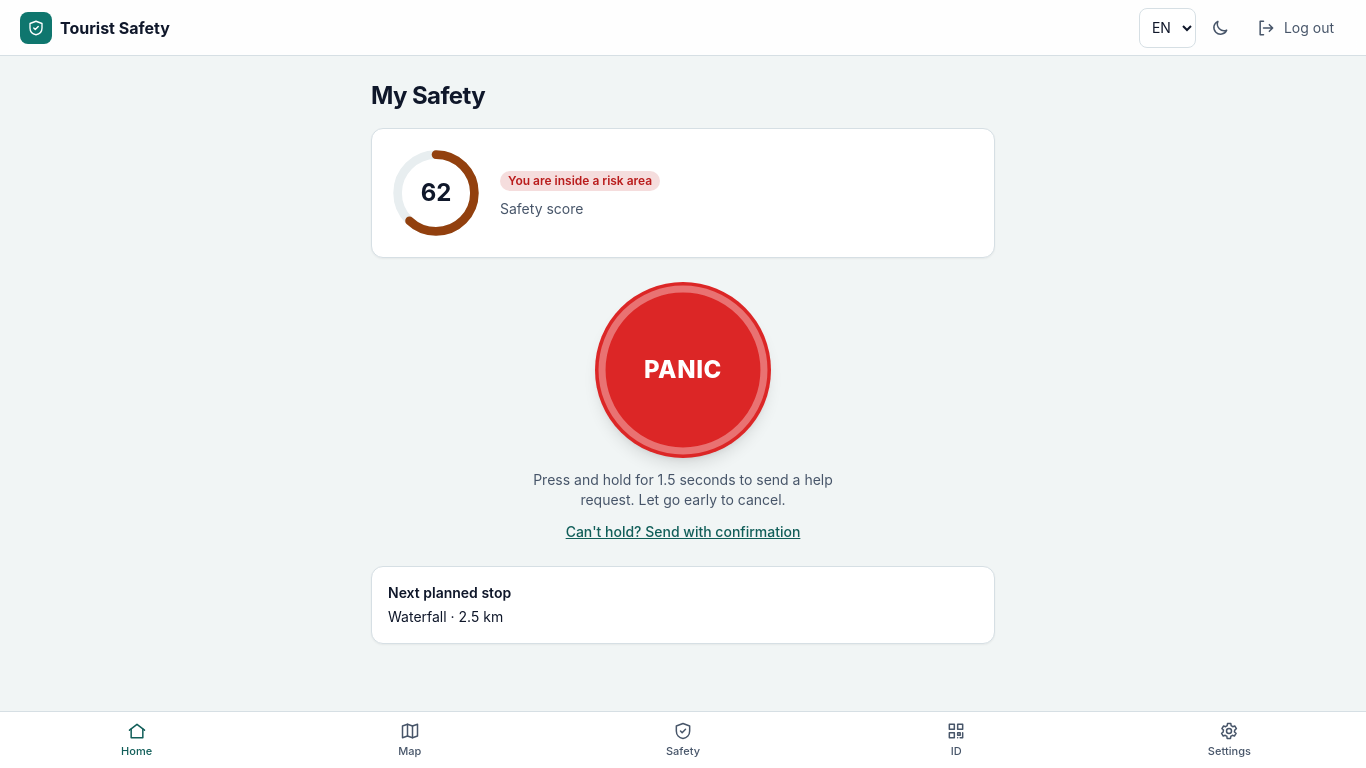
Test: confirm-path panic sends the device timestamp and shows delivery status
This screenshot has width=1366, height=768.
Expected: the heading "My Safety" is shown, [371,80,485,112]
Expected: the text "You are inside a risk area" is shown, [500,171,660,191]
Step 1. Click the button "Can't hold? Send with confirmation" → [683, 532], box [566,522,800,542]
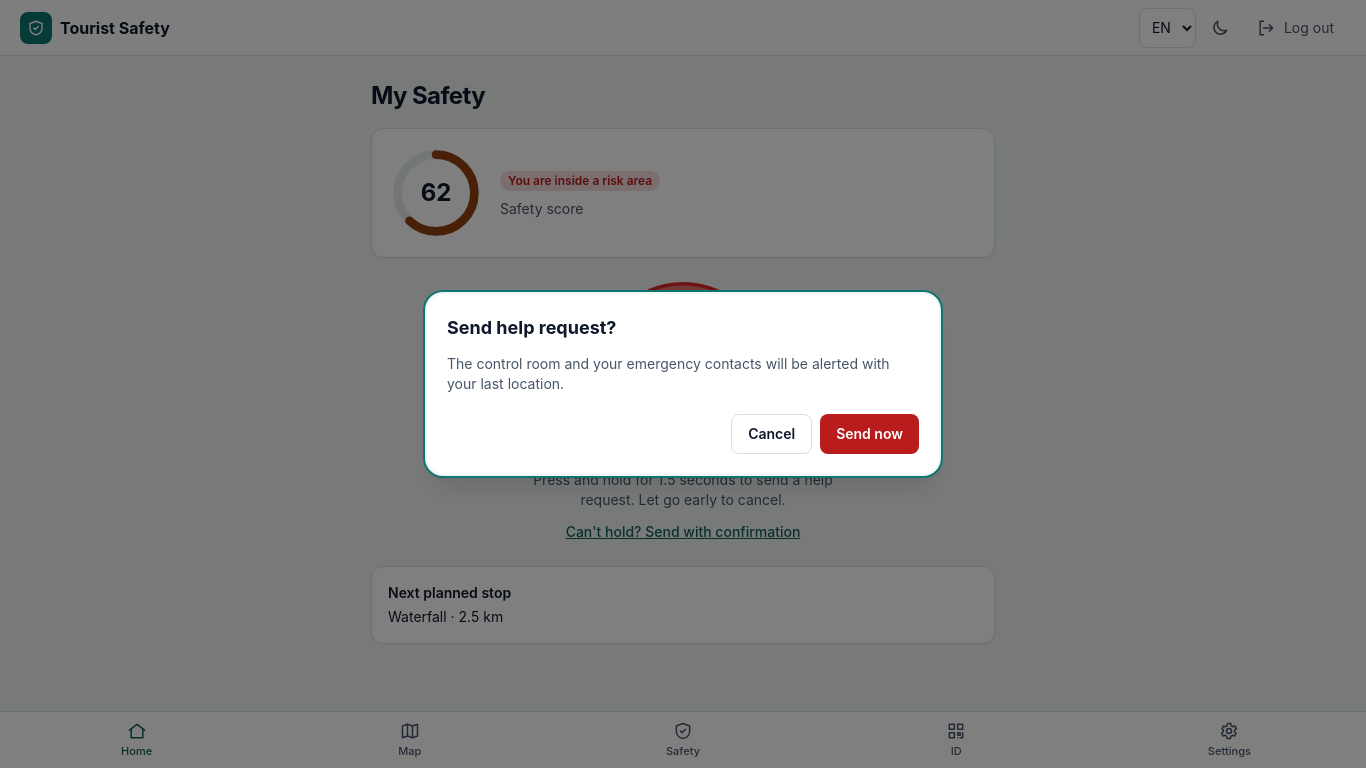
Step 2. Click the button "Send now" → [870, 434], box [820,414,919,454]
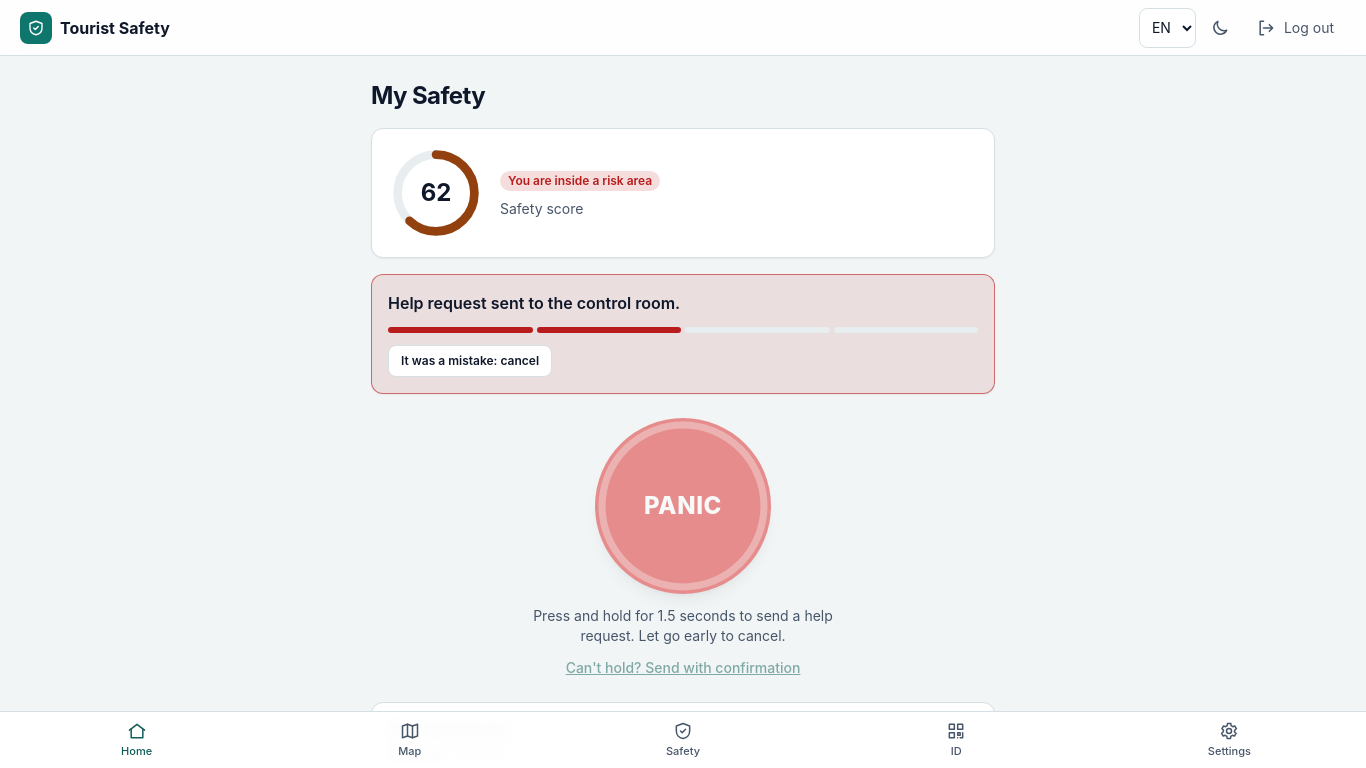
Result: the text "Help request sent to the control room." is shown at [388,293,680,313]
Result: the button "PANIC" is disabled at [595,418,771,594]
